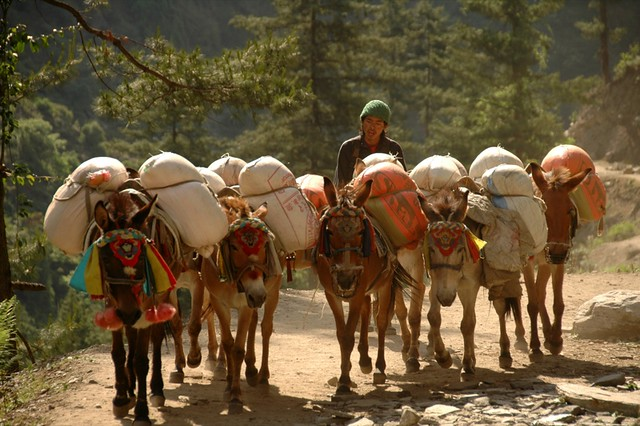equine: (66, 171, 197, 426), (285, 174, 409, 409), (512, 145, 611, 383), (186, 187, 290, 411), (411, 188, 517, 391)
human: (331, 88, 411, 192)
